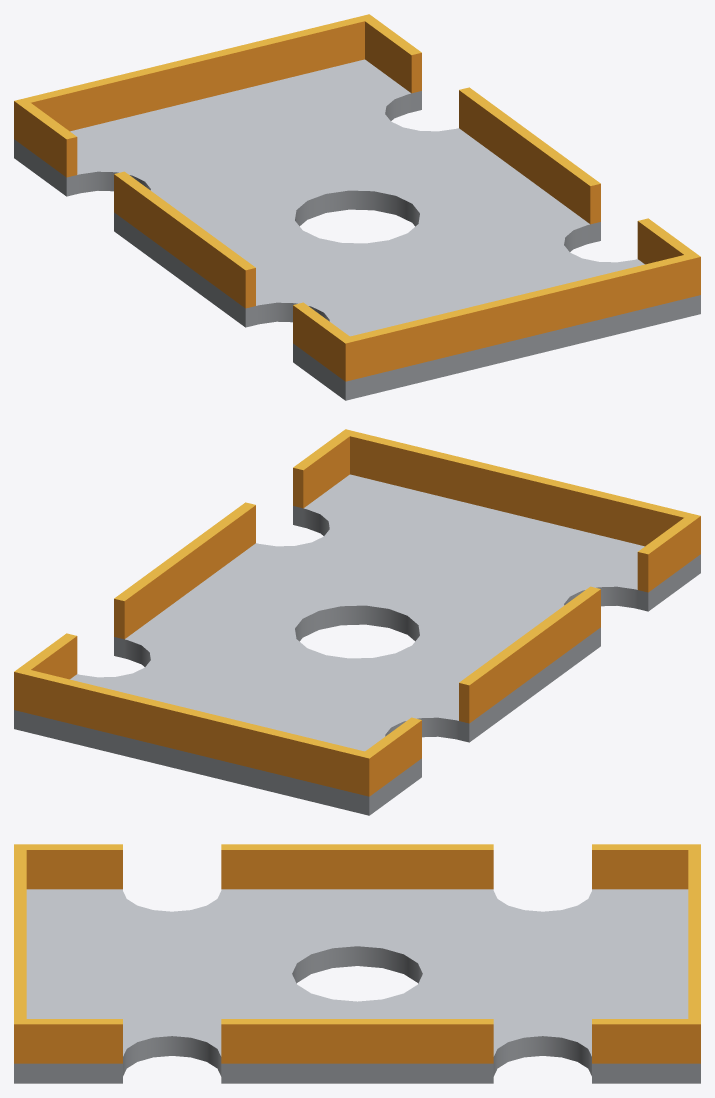
The model's file is platform_30.fbx.
The picture shows the model from 3 angles, top to bottom: view 1: azimuth 30°, elevation 25°; view 2: azimuth 150°, elevation 25°; view 3: azimuth 270°, elevation 25°; orthographic projection. The views are drawn at different scales.
Parts seen in each view (by area): view 1: Cube.038, Cube.039; view 2: Cube.038, Cube.039; view 3: Cube.038, Cube.039.
Boxes of the visible parts, left/top/right/bottom form: Cube.038: left=14, top=59, right=700, bottom=400; Cube.039: left=14, top=14, right=700, bottom=381; Cube.038: left=14, top=474, right=700, bottom=815; Cube.039: left=14, top=429, right=700, bottom=796; Cube.038: left=14, top=889, right=700, bottom=1083; Cube.039: left=14, top=844, right=700, bottom=1063.
Bounding box in the file's own units: 3900 × 600 × 6300.
